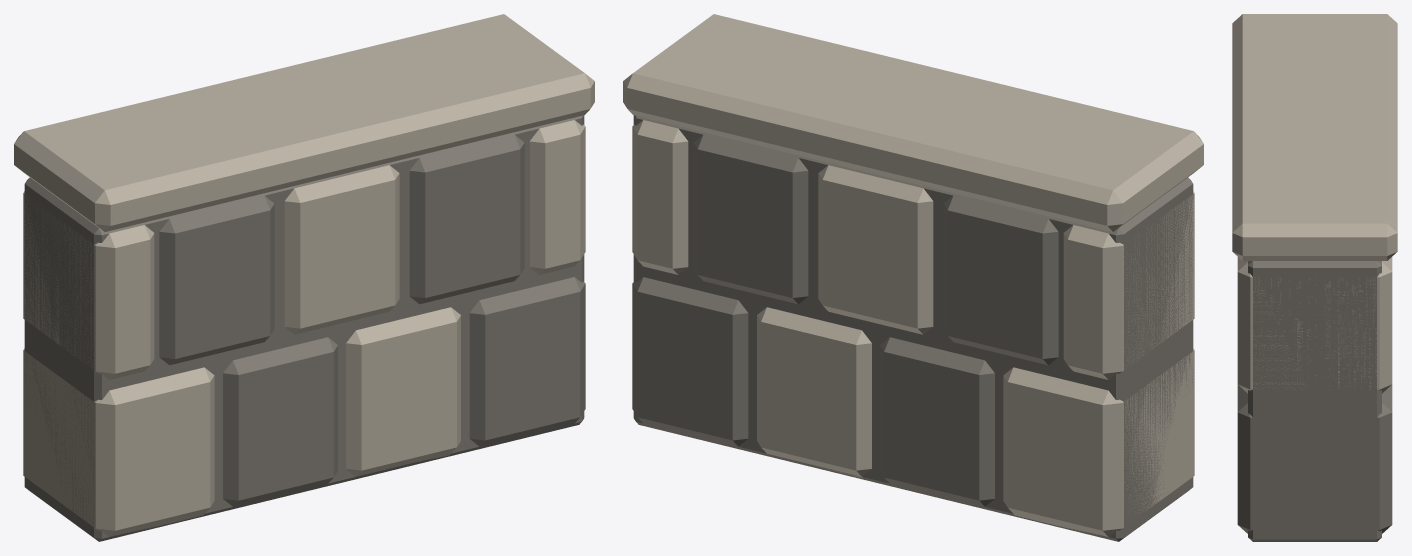
The model's file is stone_wall.fbx.
3 views of the same model, side by side, from view 1: azimuth 30°, elevation 25°; view 2: azimuth 150°, elevation 25°; view 3: azimuth 270°, elevation 25° (orthographic). The views are drawn at different scales.
Visible parts, largest first — view 1: Prop; view 2: Prop; view 3: Prop.
Boxes of the visible parts, x1,y1,x2,y2 form: Prop: (14, 14, 594, 541); Prop: (623, 14, 1203, 541); Prop: (1232, 14, 1397, 541).
Size of the model in its own units: 1 by 0.32 by 0.68.
